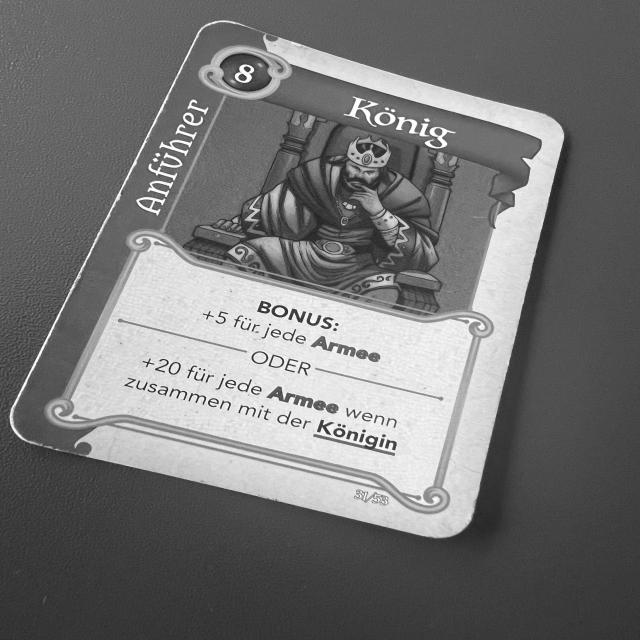King: (6, 16, 578, 544)
